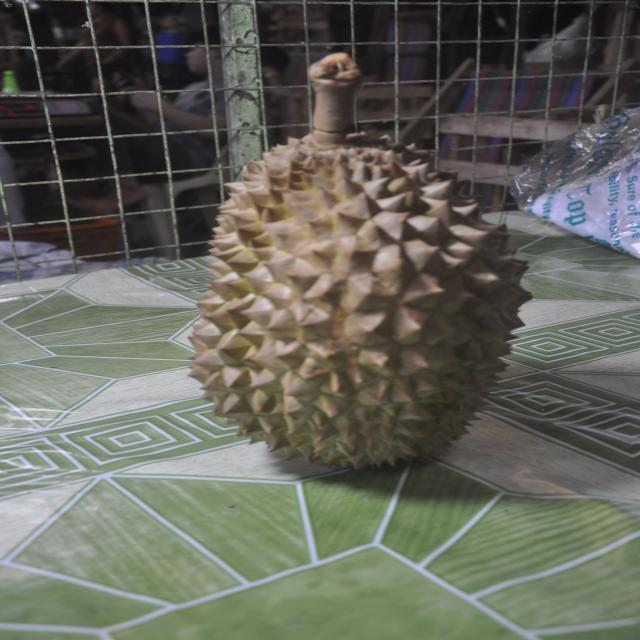mature: (191, 53, 529, 467)
